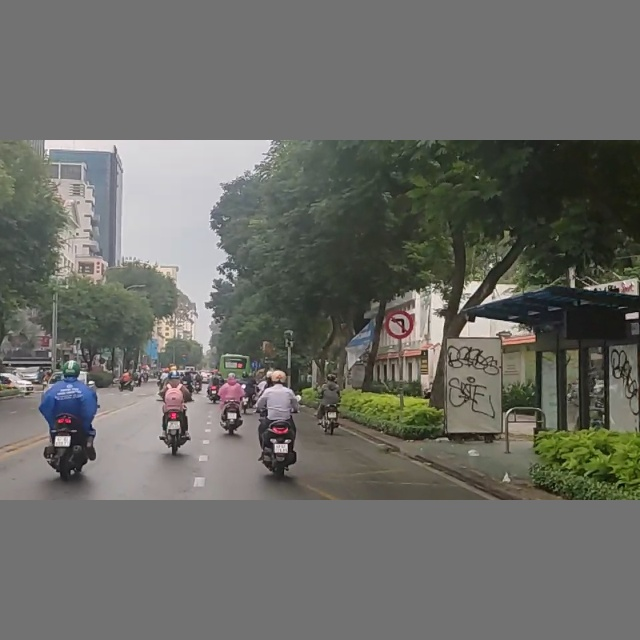P.123a: (386, 312, 413, 337)
